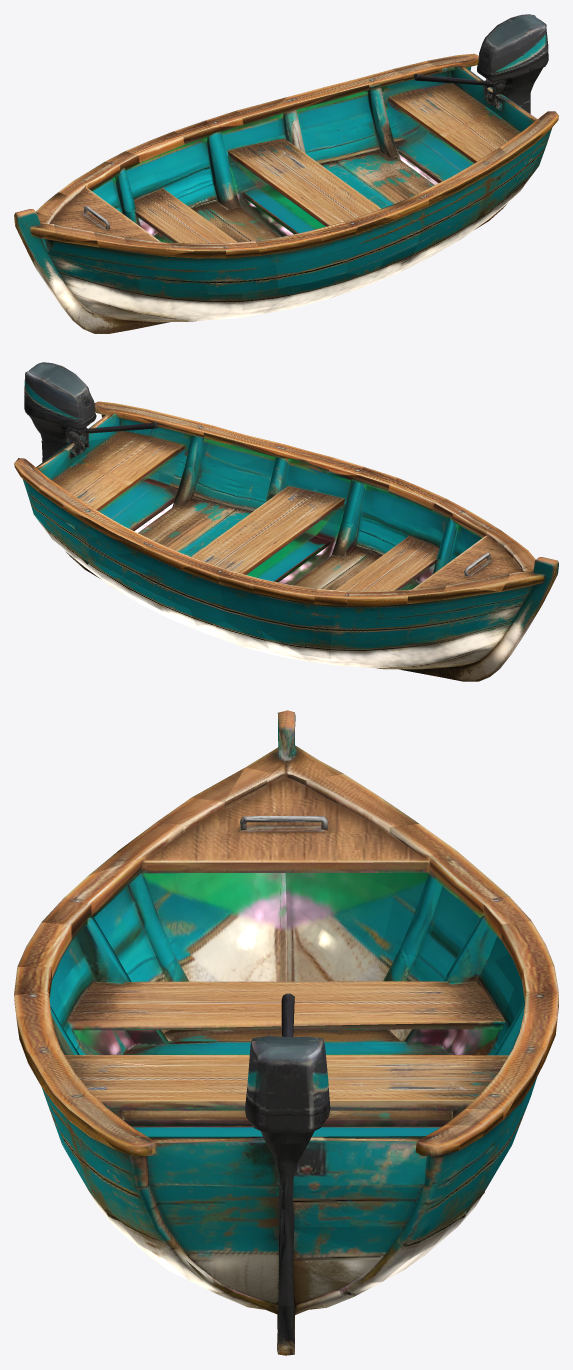
3 renders of one model, top to bottom at view 1: azimuth 30°, elevation 25°; view 2: azimuth 150°, elevation 25°; view 3: azimuth 270°, elevation 25°, orthographic. The views are drawn at different scales.
Bounding box in the file's own units: 1 × 0.3857 × 0.4883.
1 material, 1 textured.
